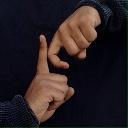hand: (23, 33, 74, 123), (47, 5, 101, 69)
